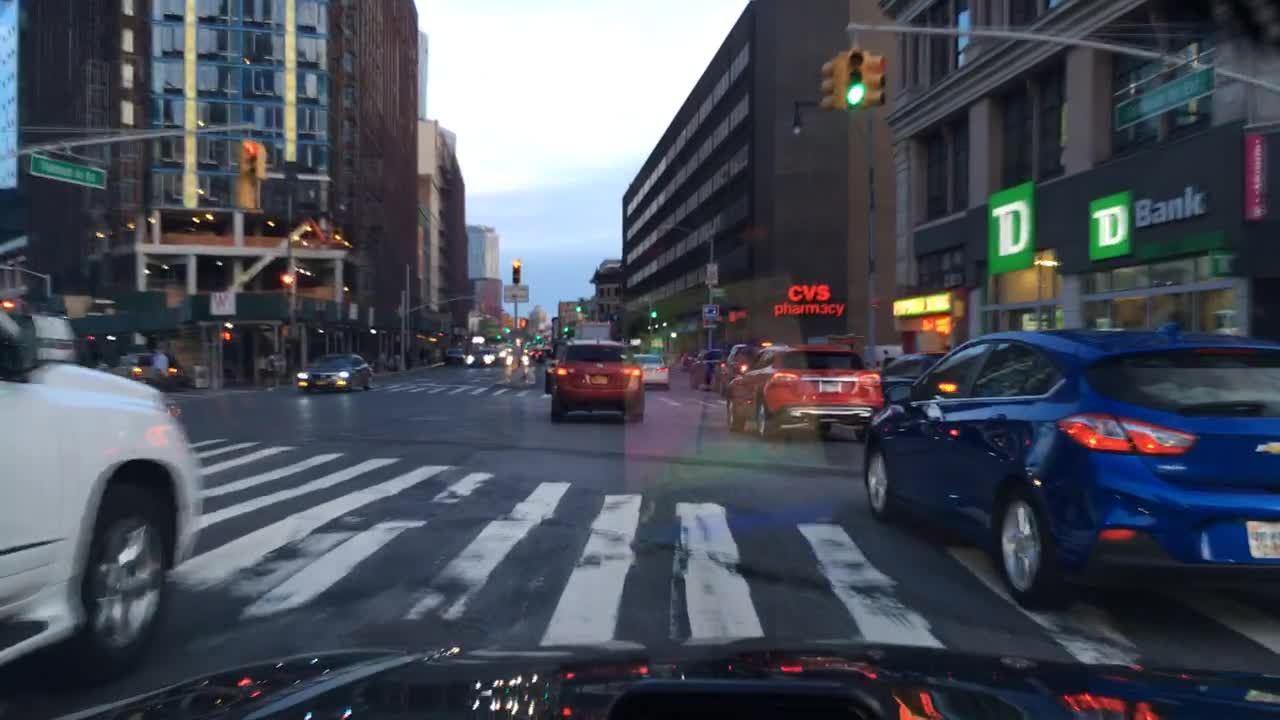car: (862, 329, 1279, 616), (0, 295, 205, 684), (720, 347, 879, 437), (552, 340, 648, 423), (876, 352, 947, 399), (298, 351, 374, 393), (113, 350, 182, 387), (714, 341, 765, 388), (633, 351, 672, 391), (543, 340, 567, 395), (692, 349, 724, 386), (467, 344, 498, 369), (447, 346, 465, 365), (528, 346, 545, 365)
person: (149, 350, 167, 386)
traffic light: (820, 52, 847, 106), (847, 47, 868, 107), (868, 53, 887, 107), (241, 136, 260, 183), (511, 255, 522, 281), (282, 263, 292, 290), (573, 299, 585, 313), (650, 304, 659, 322), (563, 321, 573, 337), (502, 321, 512, 336), (536, 329, 545, 345), (517, 314, 526, 329), (493, 332, 501, 344)
traffic sign: (1112, 63, 1212, 126), (29, 153, 112, 194), (501, 283, 529, 301), (703, 303, 714, 324), (704, 263, 715, 282), (710, 289, 726, 299)
truck: (575, 319, 616, 341)
